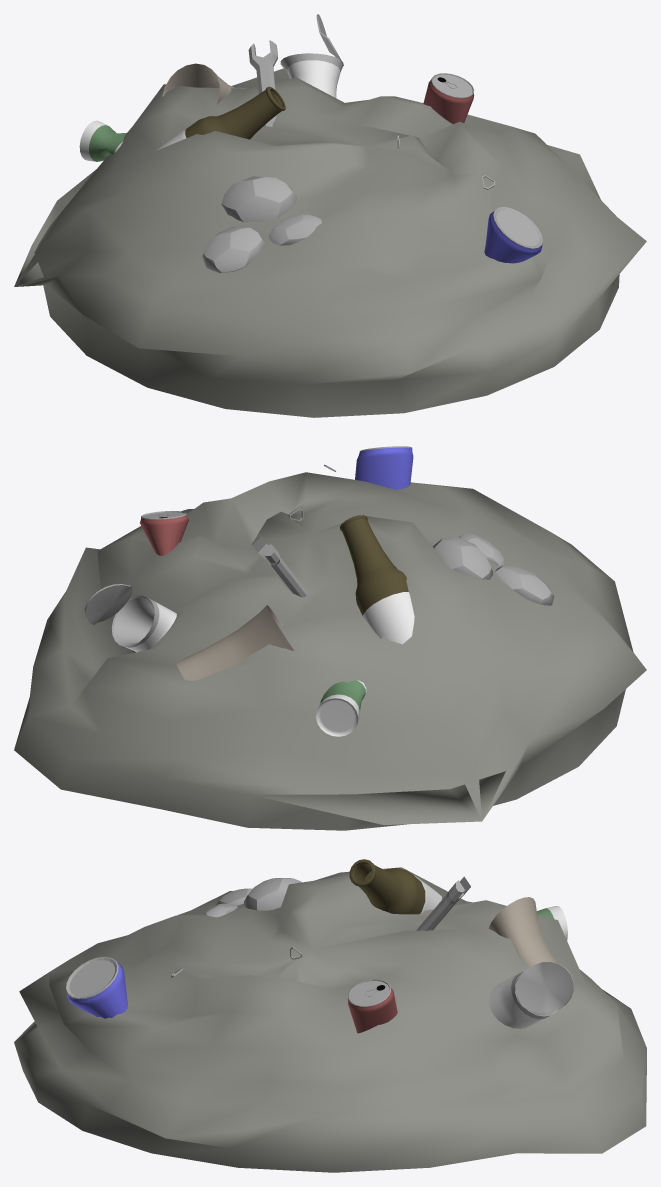
File: Trash Pile 2.fbx
3 views of the same model, one above another, from view 1: azimuth 30°, elevation 25°; view 2: azimuth 150°, elevation 25°; view 3: azimuth 270°, elevation 25° (orthographic). The views are drawn at different scales.
Visible parts, largest first — view 1: pCylinder40; view 2: pCylinder40; view 3: pCylinder40.
Boxes of the visible parts, left/top/right/bottom form: pCylinder40: left=14, top=14, right=646, bottom=417; pCylinder40: left=14, top=446, right=646, bottom=830; pCylinder40: left=14, top=859, right=646, bottom=1172.
Bounding box in the file's own units: 1.97 × 0.7763 × 2.15.
